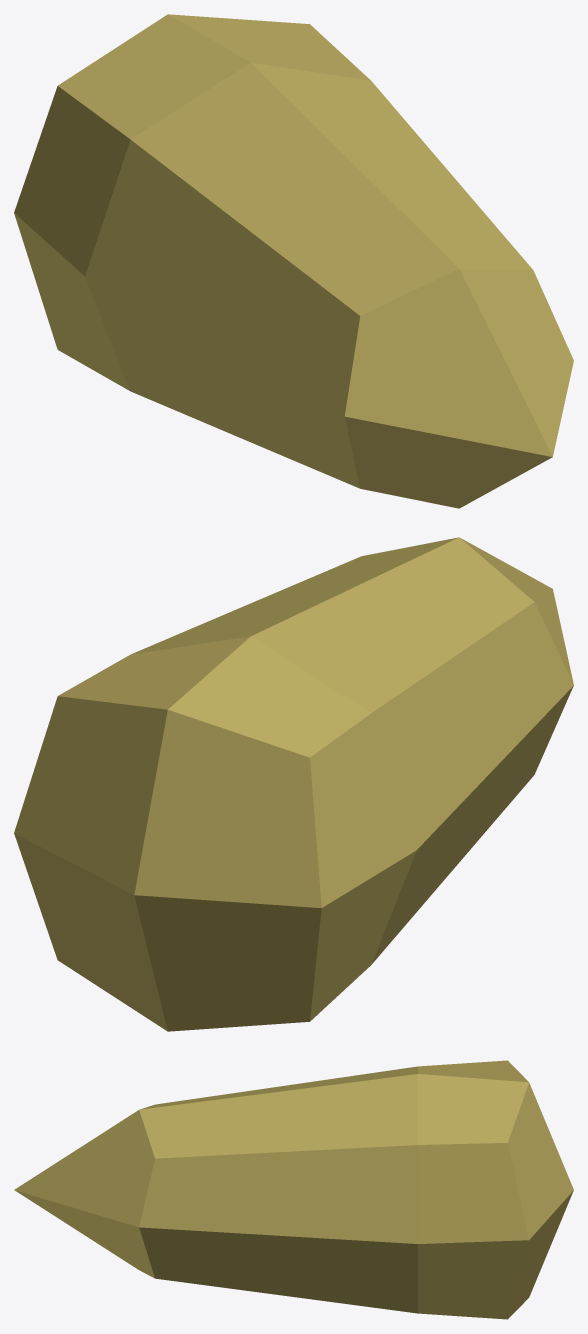
Rendered from bullet.glb.
3 views of the same model, one above another, from view 1: azimuth 30°, elevation 25°; view 2: azimuth 150°, elevation 25°; view 3: azimuth 270°, elevation 25° (orthographic). The views are drawn at different scales.
Visible parts, largest first — view 1: Cube; view 2: Cube; view 3: Cube.
Part boxes in pixels (<box>): Cube: <box>14,14,573,508</box>; Cube: <box>14,537,573,1031</box>; Cube: <box>14,1060,573,1319</box>.
Size of the model in its own units: 0.0278 by 0.0278 by 0.0608.
Materials: 1 (1 with a texture image).
